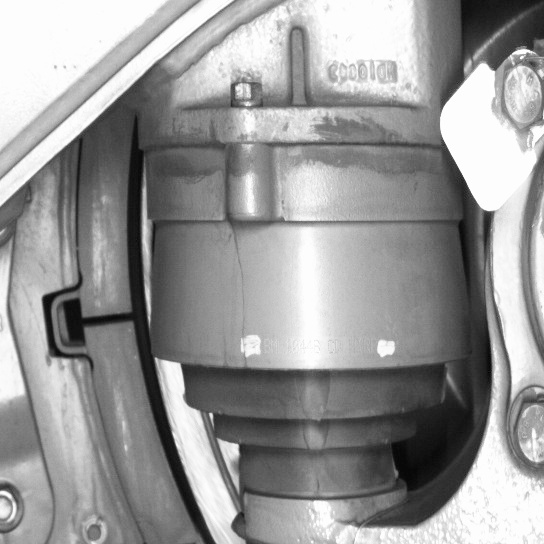KnifeSwitch: (70, 143, 219, 542)
